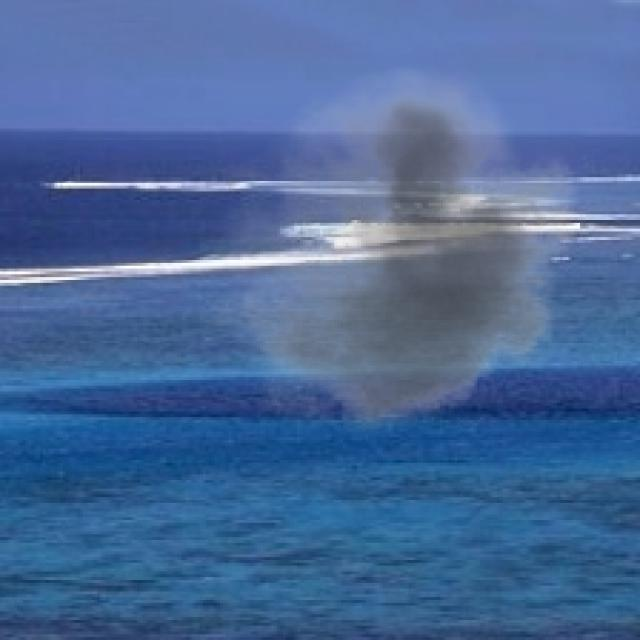Smoke: (197, 66, 594, 448)
